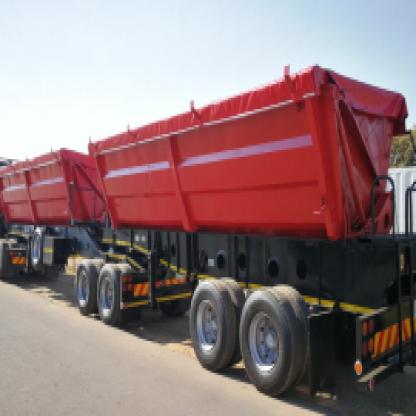dump_truck: (0, 77, 414, 400)
